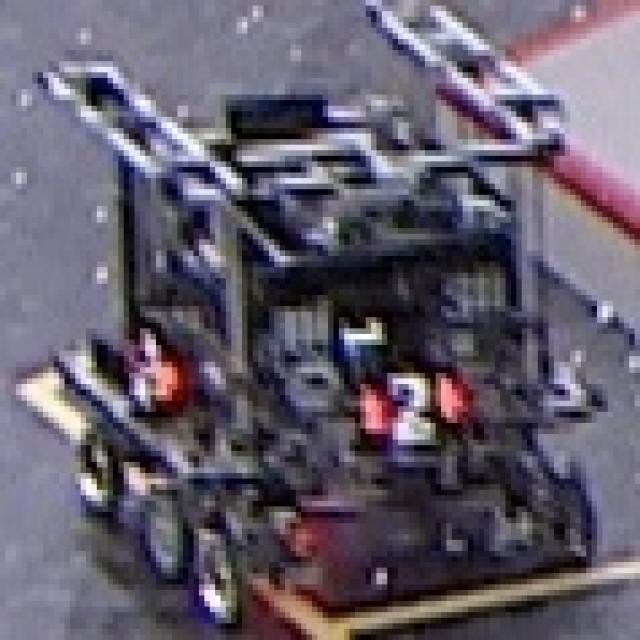R2: (355, 362, 462, 439)
